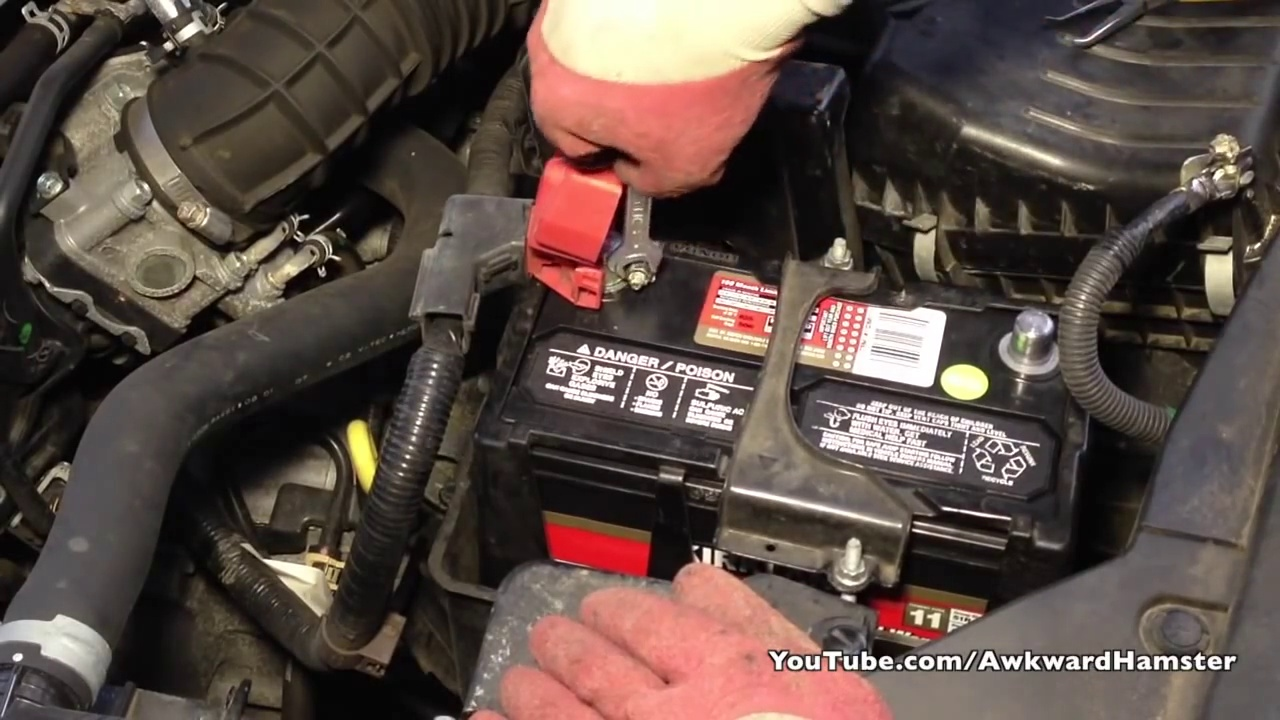battery: (473, 199, 1075, 544)
neg_disconnected: (979, 278, 1085, 393)
pos_connected: (453, 127, 697, 330)
pos_touched: (504, 28, 743, 318)
